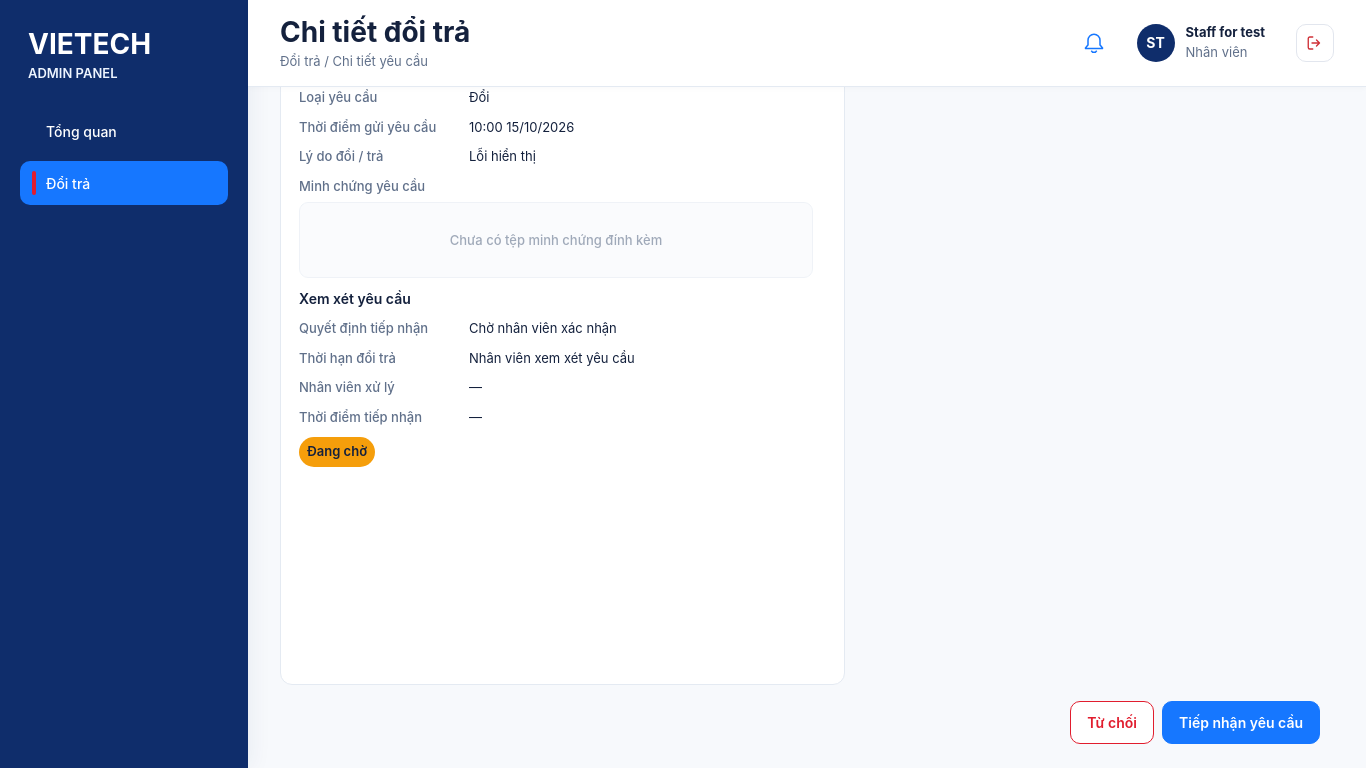
it: pending return exposes exactly two actions and reception becomes forward progress without extra inputs
(page scrolled)
Click the button "Tiếp nhận yêu cầu". click: (1241, 722)
box: [1162,701,1320,744]
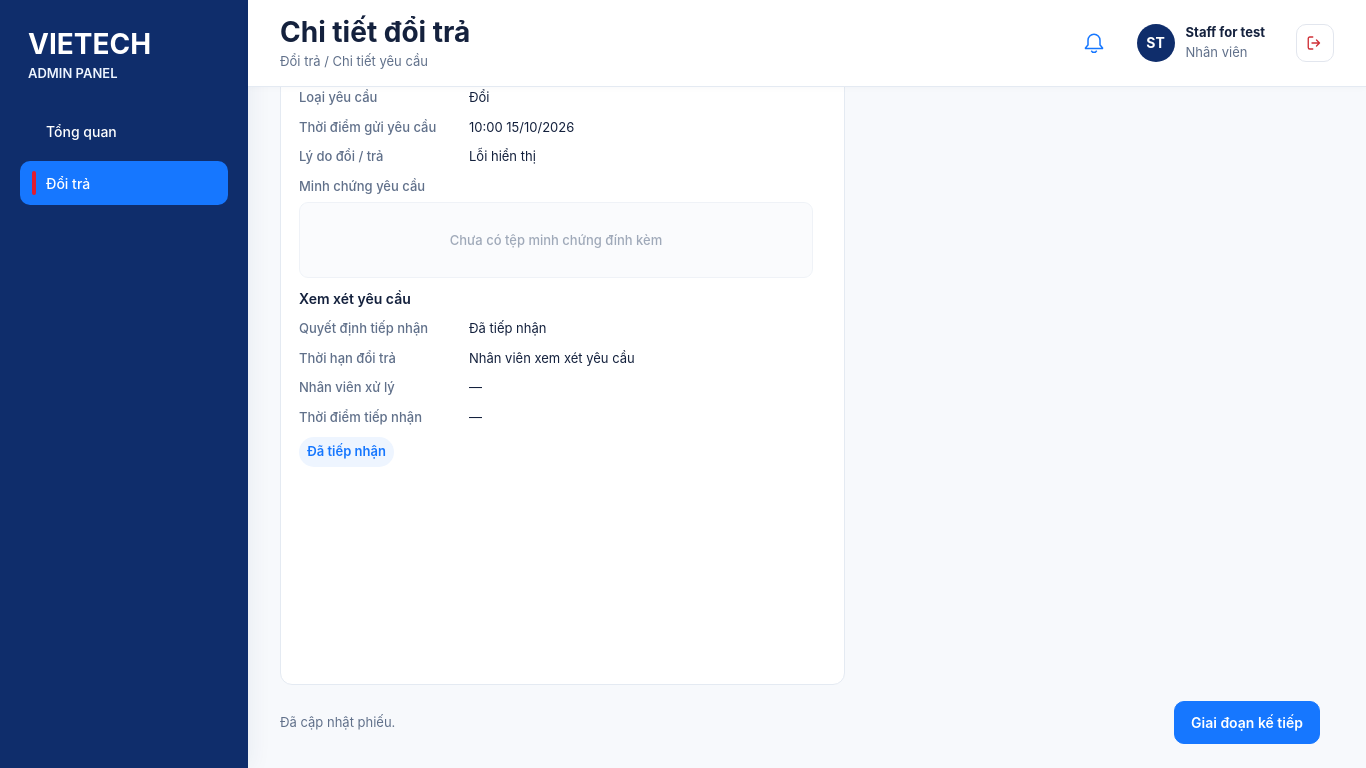
Check: the button "Giai đoạn kế tiếp" is shown, box [1174,701,1320,744]
